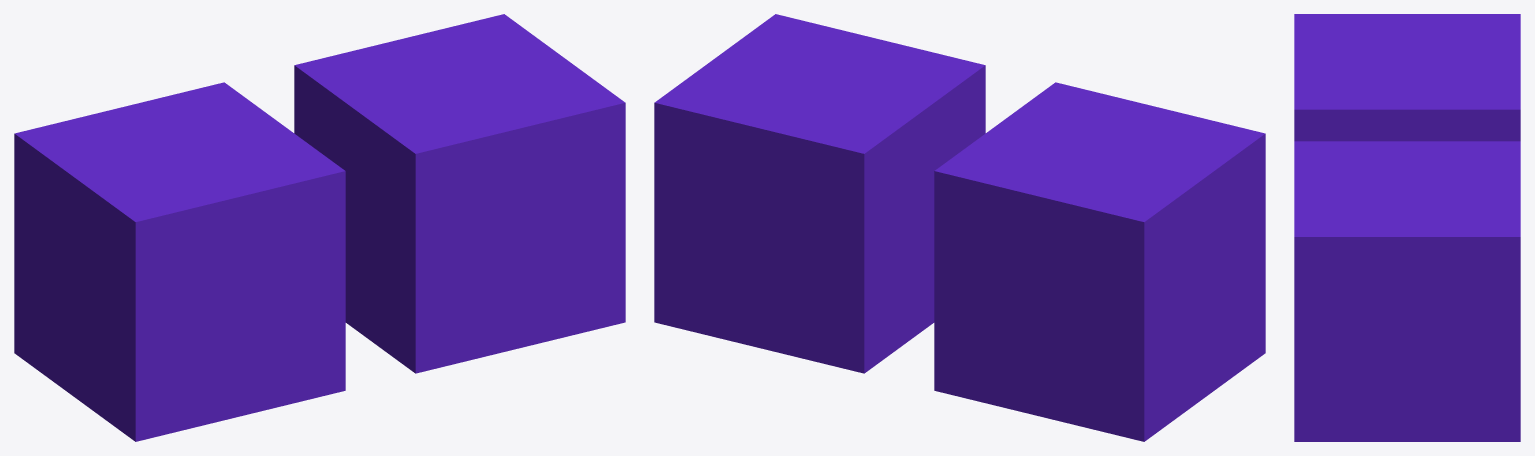
File: combined.gltf
The picture shows the model from 3 angles, left to right: view 1: azimuth 30°, elevation 25°; view 2: azimuth 150°, elevation 25°; view 3: azimuth 270°, elevation 25°; orthographic projection. The views are drawn at different scales.
Bounding box in the file's own units: 7 × 3 × 3.
